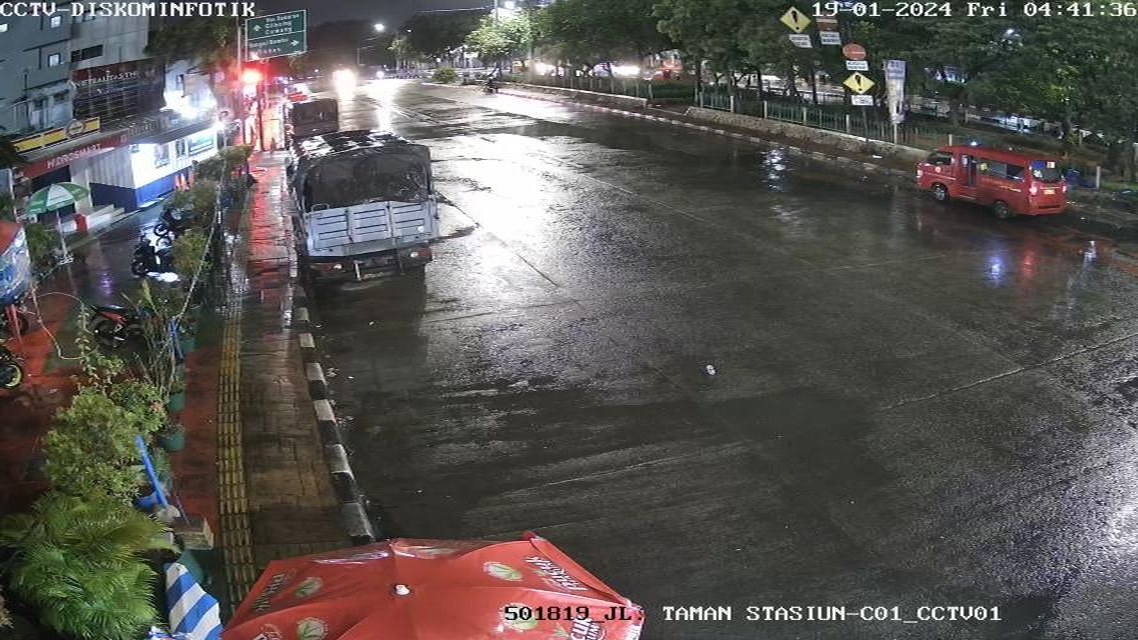Payung: (208, 537, 645, 640), (16, 180, 101, 215)
